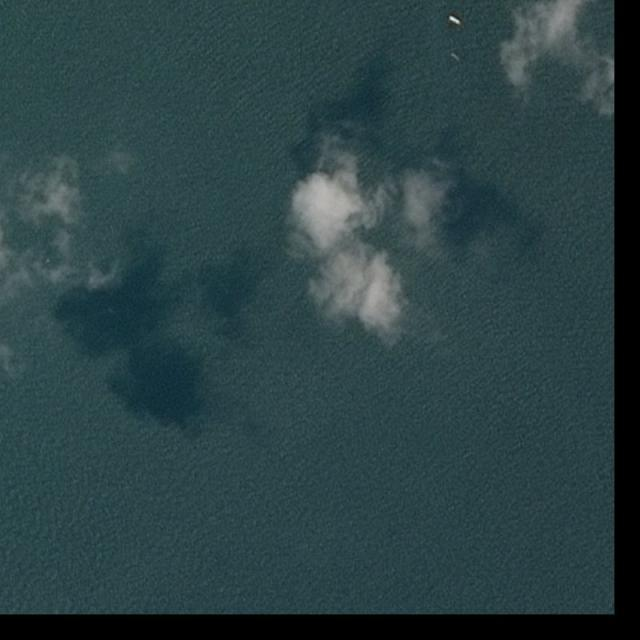ship: (447, 14, 463, 26), (450, 52, 462, 62)
